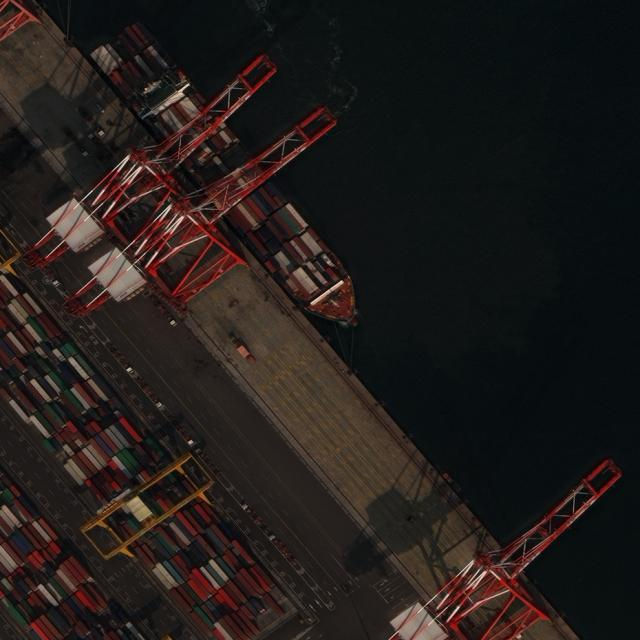Container Ship: (87, 17, 378, 344)
